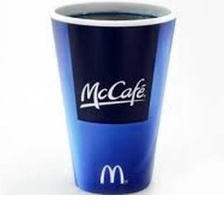paper_cup: (43, 0, 181, 196)
